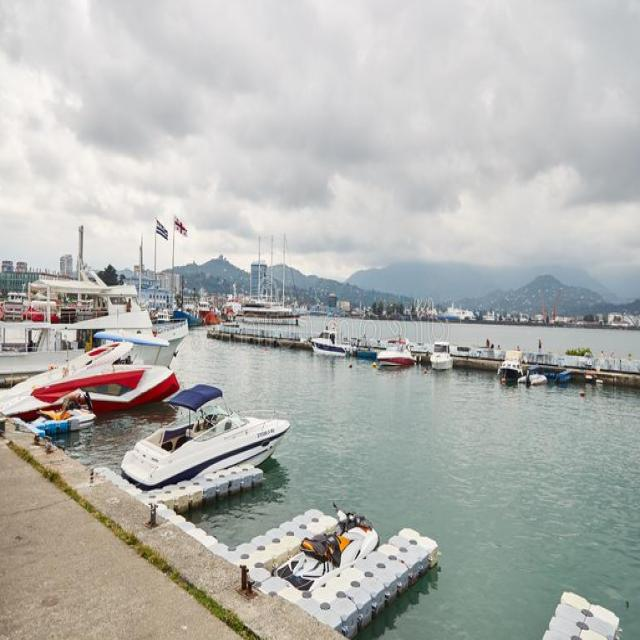houseboat: (122, 385, 288, 491), (375, 330, 420, 370), (316, 330, 350, 366)
